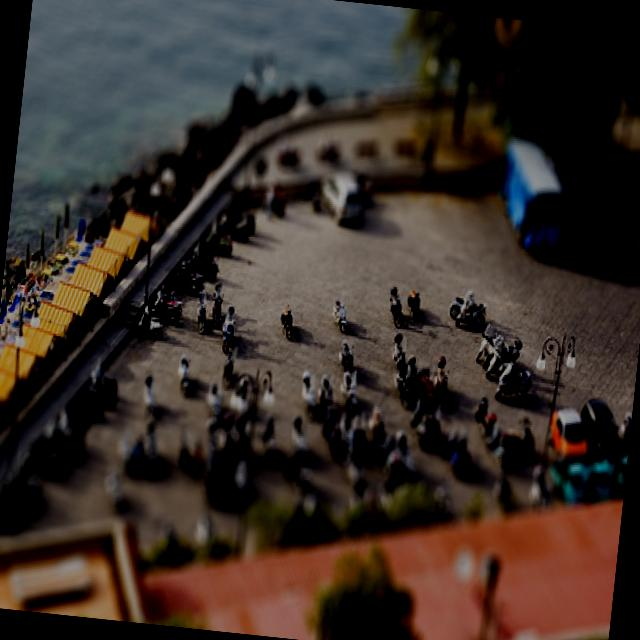Vehicle: (0, 178, 640, 596), (490, 134, 572, 255), (576, 395, 626, 464), (314, 167, 367, 224), (546, 405, 594, 466), (66, 372, 104, 420), (48, 411, 82, 456), (496, 360, 532, 400), (584, 458, 616, 502), (203, 216, 235, 256), (474, 322, 506, 362), (148, 290, 181, 322), (456, 299, 487, 331), (484, 347, 514, 380), (386, 286, 406, 328), (208, 288, 224, 328), (337, 339, 356, 372), (330, 302, 350, 332), (220, 319, 235, 354)
